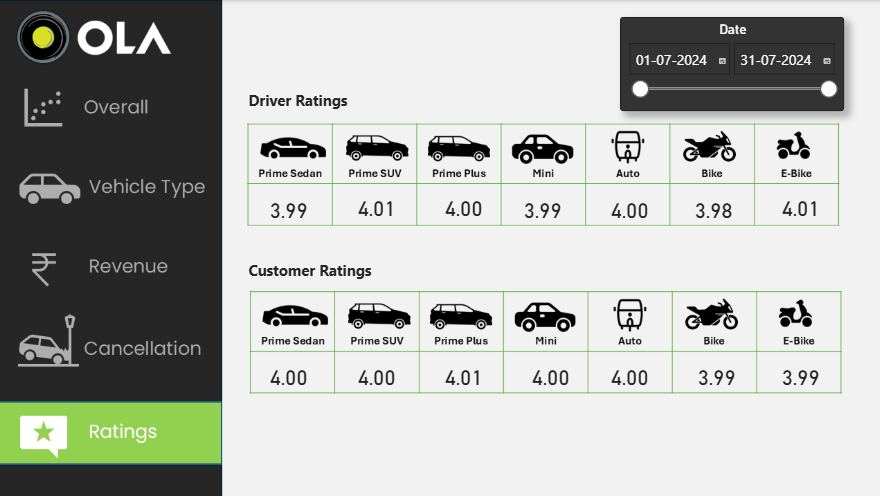

The page's visual inventory and layout, read from the dashboard file:
{"tool":"powerbi","page":{"name":"Ratings","canvas":[1280,720],"ordinal":4},"visuals":[{"type":"actionButton","box":[0,443.9,323.9,101.2],"z":0},{"type":"actionButton","box":[0,342.7,323.9,101.2],"z":1000},{"type":"actionButton","box":[0,225.5,323.9,101.2],"z":2000},{"type":"actionButton","box":[0,111.3,323.9,101.2],"z":3000},{"type":"card","fields":{"Values":["Avg(Bookings.Driver_Ratings)"]},"box":[357.8,275.5,126,52.1],"z":4000},{"type":"card","fields":{"Values":["Avg(Bookings.Driver_Ratings)"]},"box":[483.8,273.8,126,52.1],"z":5000},{"type":"card","fields":{"Values":["Avg(Bookings.Driver_Ratings)"]},"box":[609.8,273.8,126,52.1],"z":6000},{"type":"card","fields":{"Values":["Avg(Bookings.Driver_Ratings)"]},"box":[724,275.5,126,52.1],"z":7000},{"type":"card","fields":{"Values":["Avg(Bookings.Driver_Ratings)"]},"box":[850,275.5,126,52.1],"z":8000},{"type":"card","fields":{"Values":["Avg(Bookings.Driver_Ratings)"]},"box":[970.9,275.5,126,52.1],"z":9000},{"type":"card","fields":{"Values":["Avg(Bookings.Driver_Ratings)"]},"box":[1096.9,273.8,126,52.1],"z":10000},{"type":"textbox","box":[357.8,126,189.8,47],"z":11000},{"type":"textbox","box":[357.8,371.2,223.4,47],"z":12000},{"type":"card","fields":{"Values":["Avg(Bookings.Customer_Rating)"]},"box":[357.8,517.4,126,52.1],"z":13000},{"type":"card","fields":{"Values":["Avg(Bookings.Customer_Rating)"]},"box":[483.8,517.4,126,52.1],"z":14000},{"type":"card","fields":{"Values":["Avg(Bookings.Customer_Rating)"]},"box":[609.8,517.4,126,52.1],"z":15000},{"type":"card","fields":{"Values":["Avg(Bookings.Customer_Rating)"]},"box":[735.7,517.4,126,52.1],"z":16000},{"type":"card","fields":{"Values":["Avg(Bookings.Customer_Rating)"]},"box":[850,517.4,126,52.1],"z":17000},{"type":"card","fields":{"Values":["Avg(Bookings.Customer_Rating)"]},"box":[976,517.4,126,52.1],"z":18000},{"type":"card","fields":{"Values":["Avg(Bookings.Customer_Rating)"]},"box":[1096.9,517.4,126,52.1],"z":19000},{"type":"slicer","title":"Date","fields":{"Values":["Bookings.Date"]},"box":[898.7,25.2,324.2,136.1],"z":20000}]}

Visuals, with their boxes in screenshot pixels (x1, y1, x2, y2), scaled from the page's 1280x720 canvas onto the 880x496 screenshot:
actionButton: x1=0 y1=306 x2=223 y2=376
actionButton: x1=0 y1=236 x2=223 y2=306
actionButton: x1=0 y1=155 x2=223 y2=225
actionButton: x1=0 y1=77 x2=223 y2=146
card - Avg(Bookings.Driver_Ratings): x1=246 y1=190 x2=333 y2=226
card - Avg(Bookings.Driver_Ratings): x1=333 y1=189 x2=419 y2=225
card - Avg(Bookings.Driver_Ratings): x1=419 y1=189 x2=506 y2=225
card - Avg(Bookings.Driver_Ratings): x1=498 y1=190 x2=584 y2=226
card - Avg(Bookings.Driver_Ratings): x1=584 y1=190 x2=671 y2=226
card - Avg(Bookings.Driver_Ratings): x1=667 y1=190 x2=754 y2=226
card - Avg(Bookings.Driver_Ratings): x1=754 y1=189 x2=841 y2=225
textbox: x1=246 y1=87 x2=376 y2=119
textbox: x1=246 y1=256 x2=400 y2=288
card - Avg(Bookings.Customer_Rating): x1=246 y1=356 x2=333 y2=392
card - Avg(Bookings.Customer_Rating): x1=333 y1=356 x2=419 y2=392
card - Avg(Bookings.Customer_Rating): x1=419 y1=356 x2=506 y2=392
card - Avg(Bookings.Customer_Rating): x1=506 y1=356 x2=592 y2=392
card - Avg(Bookings.Customer_Rating): x1=584 y1=356 x2=671 y2=392
card - Avg(Bookings.Customer_Rating): x1=671 y1=356 x2=758 y2=392
card - Avg(Bookings.Customer_Rating): x1=754 y1=356 x2=841 y2=392
"Date" slicer: x1=618 y1=17 x2=841 y2=111
